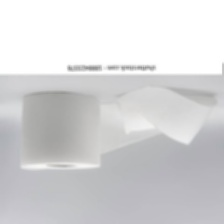tissue: (14, 81, 222, 176)
